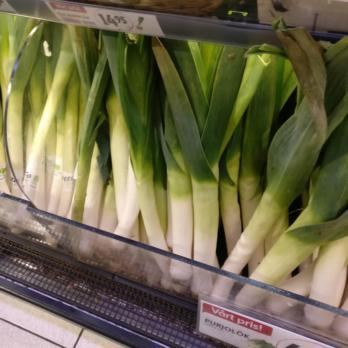Leek Leaves: (150, 40, 348, 281), (0, 17, 174, 221)
